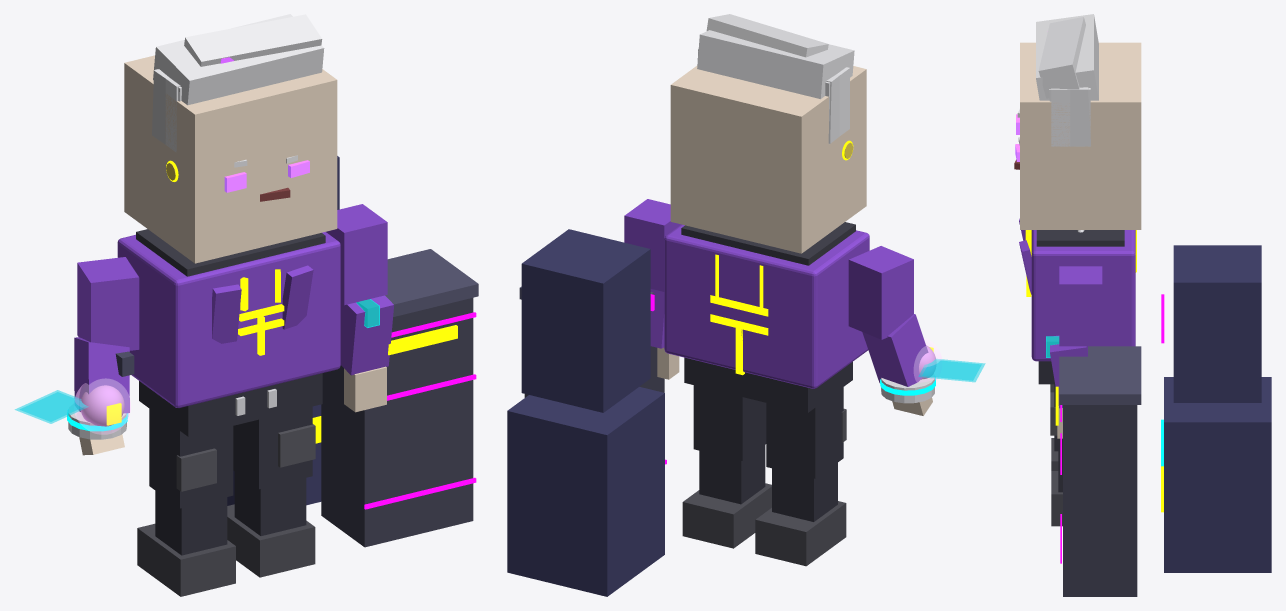
Rendered from ShrewdMerchant_FullScene.fbx.
3 renders of one model, left to right at view 1: azimuth 30°, elevation 25°; view 2: azimuth 150°, elevation 25°; view 3: azimuth 270°, elevation 25°, orthographic. The views are drawn at different scales.
Parts seen in each view (by area): view 1: Head, CounterBody, JacketBody, HairMain, LeftUpperArm, Hips, LeftThigh, RightUpperArm, CounterTop, LeftShoe, HairTop, RightThigh (+22 smaller); view 2: Head, NeonBox1, JacketBody, NeonBox2, HairMain, LeftThigh, LeftUpperArm, RightThigh, Hips, LeftShoe, RightShoe, RightShin (+12 smaller); view 3: NeonBox1, Head, CounterBody, NeonBox2, JacketBody, CounterTop, RightUpperArm, HairTop, HairMain, Torso, HairSideR.001, HairSideR (+4 smaller).
Boxes of the visible parts, x1,y1,x2,y2 form: Head: (124, 55, 337, 263); CounterBody: (321, 298, 473, 547); JacketBody: (117, 232, 340, 407); HairMain: (153, 14, 324, 105); LeftUpperArm: (77, 257, 139, 350); Hips: (139, 373, 322, 436); LeftThigh: (149, 408, 233, 508); RightUpperArm: (326, 204, 387, 305); CounterTop: (385, 249, 478, 316); LeftShoe: (137, 523, 235, 596); HairTop: (184, 14, 322, 66); RightThigh: (233, 406, 312, 489); Head: (670, 65, 866, 253); NeonBox1: (507, 387, 664, 596); JacketBody: (664, 224, 869, 388); NeonBox2: (521, 229, 650, 412); HairMain: (697, 30, 854, 99); LeftThigh: (766, 387, 843, 478); LeftUpperArm: (848, 246, 913, 339); RightThigh: (693, 385, 766, 460); Hips: (684, 357, 852, 412); LeftShoe: (755, 501, 846, 566); RightShoe: (682, 483, 771, 548); RightShin: (699, 445, 765, 504); NeonBox1: (1164, 377, 1271, 572); Head: (1020, 42, 1141, 229); CounterBody: (1063, 405, 1137, 596); NeonBox2: (1173, 245, 1261, 402); JacketBody: (1031, 230, 1135, 361); CounterTop: (1059, 346, 1141, 404); RightUpperArm: (1059, 266, 1102, 346); HairTop: (1038, 17, 1085, 98); HairMain: (1036, 14, 1098, 100); Torso: (1036, 230, 1124, 246); HairSideR.001: (1051, 88, 1090, 146); HairSideR: (1049, 87, 1090, 146).
Size of what is drawn, in the model's own units: 231 by 262 by 131.
